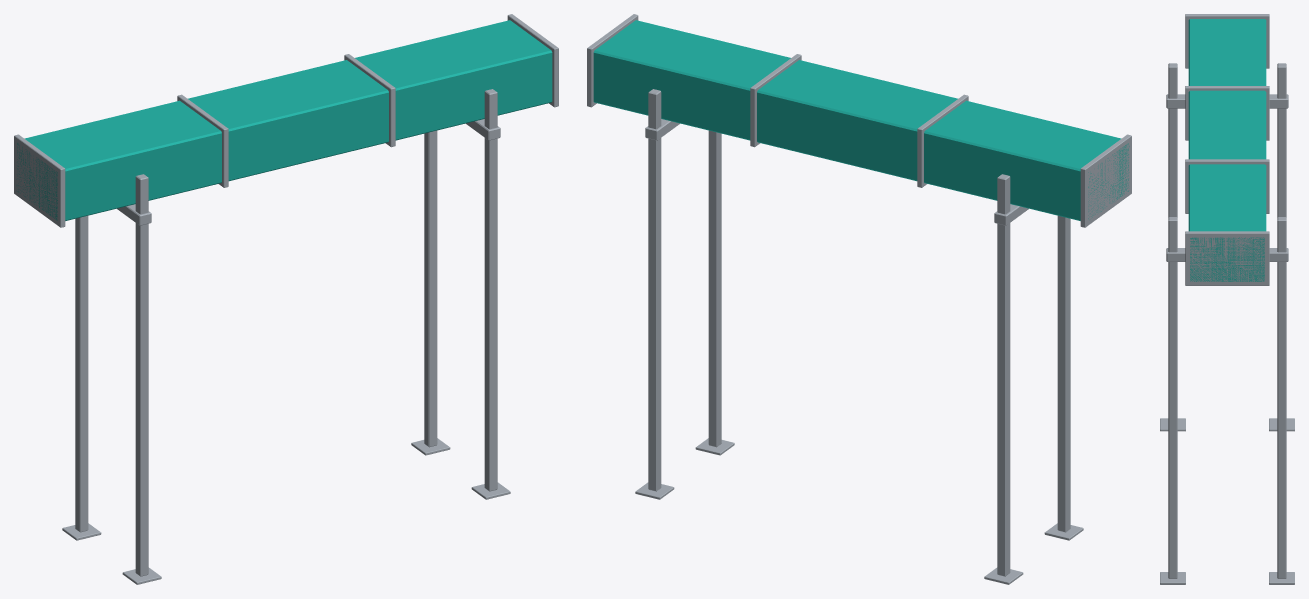
The model's file is exhaust-duct-run.glb.
3 views of the same model, side by side, from view 1: azimuth 30°, elevation 25°; view 2: azimuth 150°, elevation 25°; view 3: azimuth 270°, elevation 25° (orthographic). The views are drawn at different scales.
Parts seen in each view (by area): view 1: exhaust-duct-run; view 2: exhaust-duct-run; view 3: exhaust-duct-run.
Boxes of the visible parts, x1,y1,x2,y2 form: exhaust-duct-run: [14, 14, 558, 584]; exhaust-duct-run: [587, 14, 1131, 584]; exhaust-duct-run: [1160, 14, 1294, 584].
Size of the model in its own units: 4 by 3.22 by 1.04.
